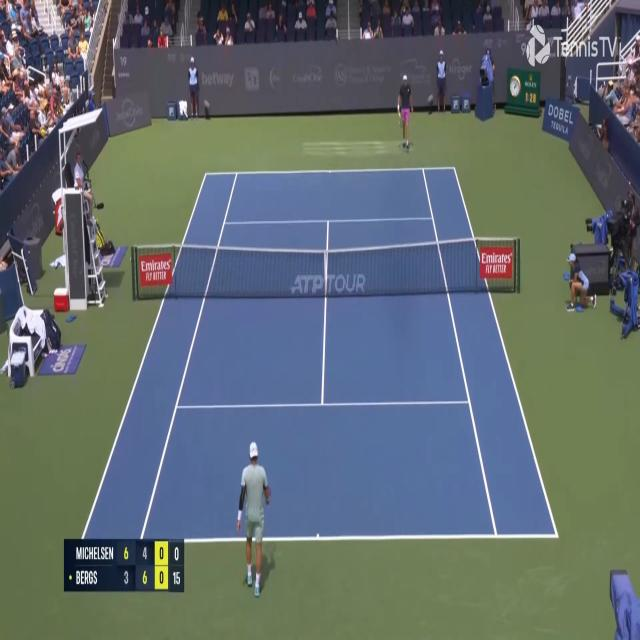tennis-player: (236, 438, 274, 599), (396, 72, 413, 153)
